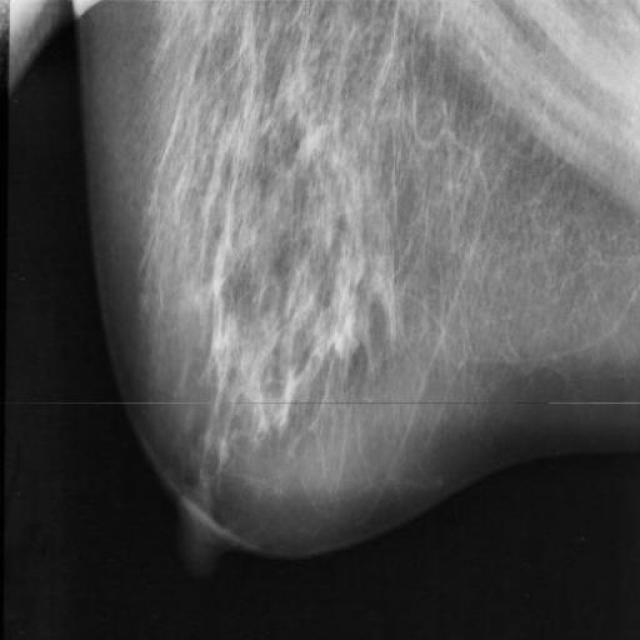cancer: (320, 303, 364, 392)
